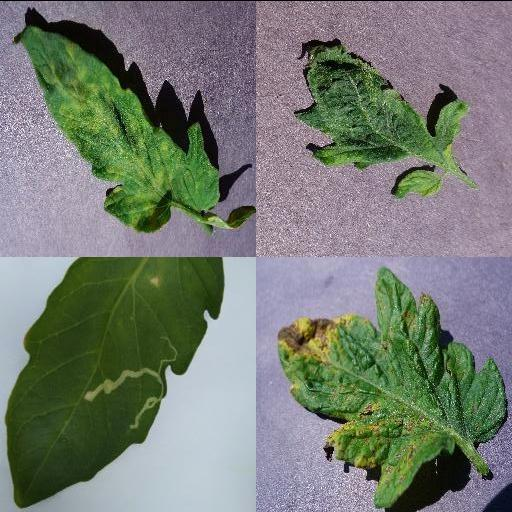Leaf Miner: (2, 256, 224, 507)
Leaf Mold: (12, 22, 220, 230)
Mosaic Virus: (295, 42, 473, 200)
Septoria: (276, 266, 506, 505)
